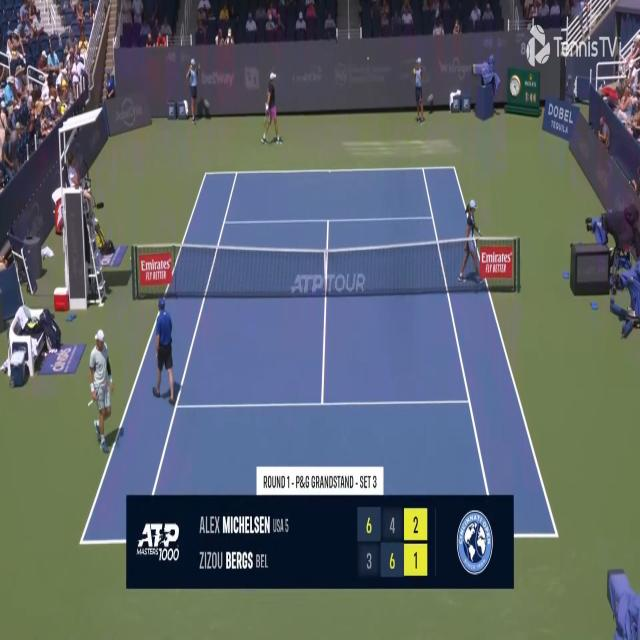tennis-player: (87, 324, 116, 456), (260, 70, 282, 147)
